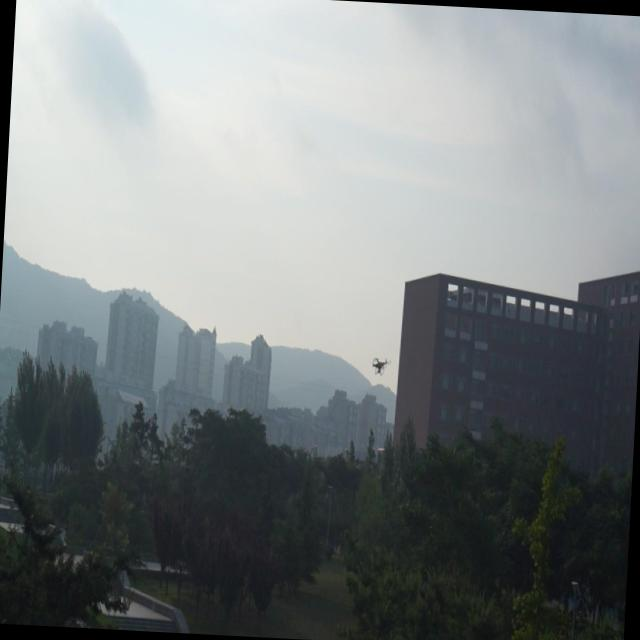drone: (367, 354, 392, 378)
